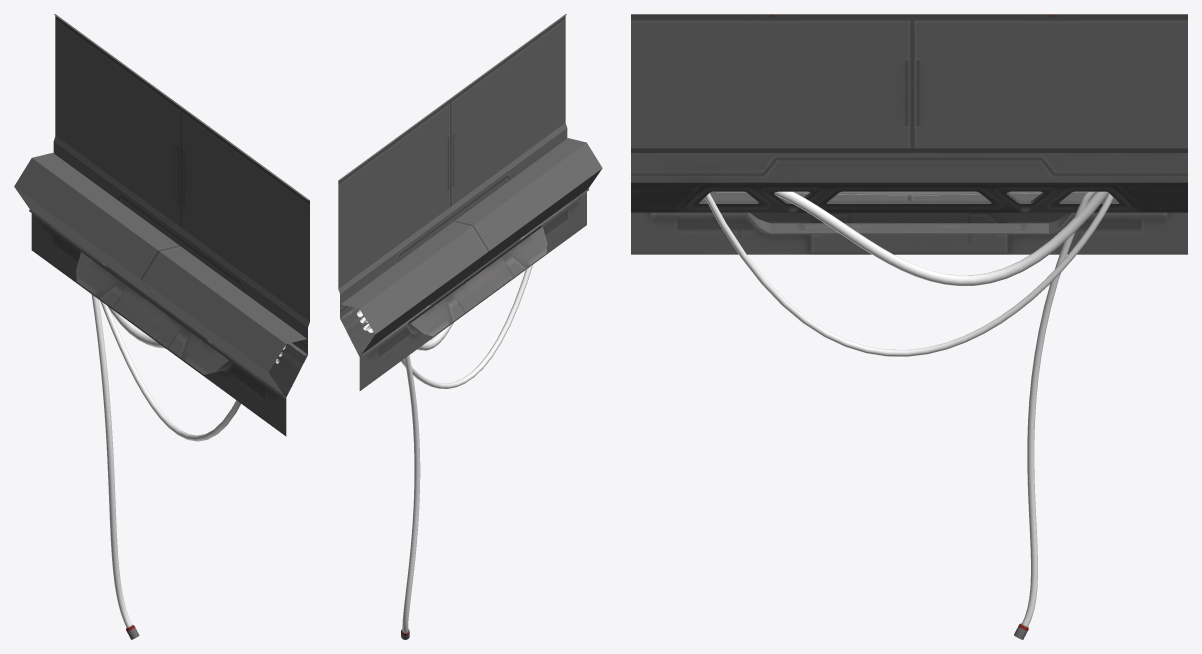
The model's file is top-cables-hanging-QVRBmlVJ.glb.
3 views of the same model, side by side, from view 1: azimuth 30°, elevation 25°; view 2: azimuth 150°, elevation 25°; view 3: azimuth 270°, elevation 25° (orthographic). The views are drawn at different scales.
Parts seen in each view (by area): view 1: TopCables_Straight_Hanging; view 2: TopCables_Straight_Hanging; view 3: TopCables_Straight_Hanging.
Boxes of the visible parts, box(x1,y1,x2,y2) form: TopCables_Straight_Hanging: box(14, 14, 309, 639); TopCables_Straight_Hanging: box(338, 14, 602, 639); TopCables_Straight_Hanging: box(631, 14, 1187, 639).
Size of the model in its own units: 0.4417 by 4.94 by 4.
4 materials, 3 textured.
